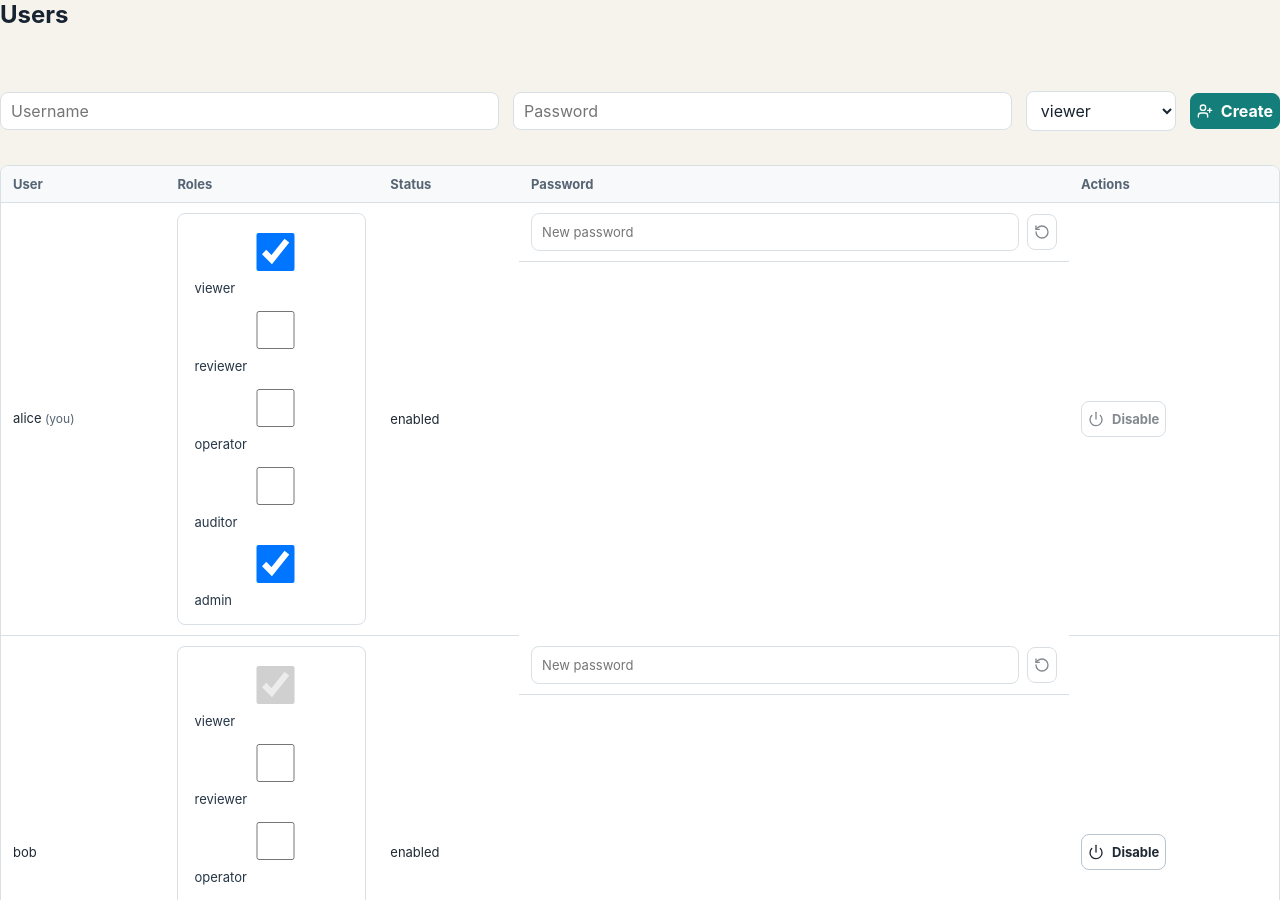
Test case: <Users> admin safety (#422, #417) › prevents self-lockout: own disable is blocked, own admin removal asks
Expected: the text "(you)" is shown, [42,411,74,426]
Expected: the button with aria-label "Disable alice" is disabled, [1081,401,1166,437]
Click the checkbox named "admin role for alice" at (276, 564), box [198,545,353,583]
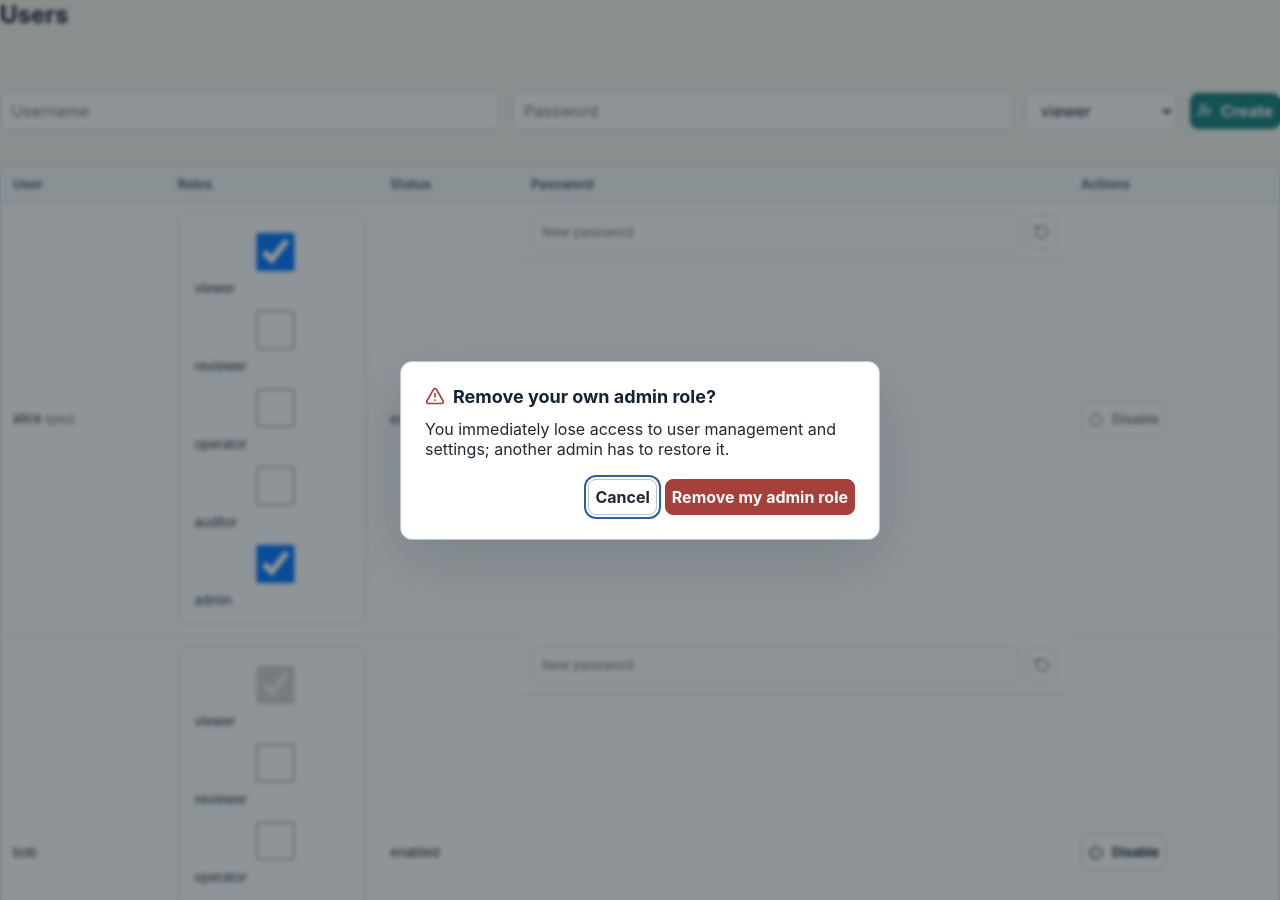
Click the button "Cancel" at (623, 496), box [588,478,657,514]
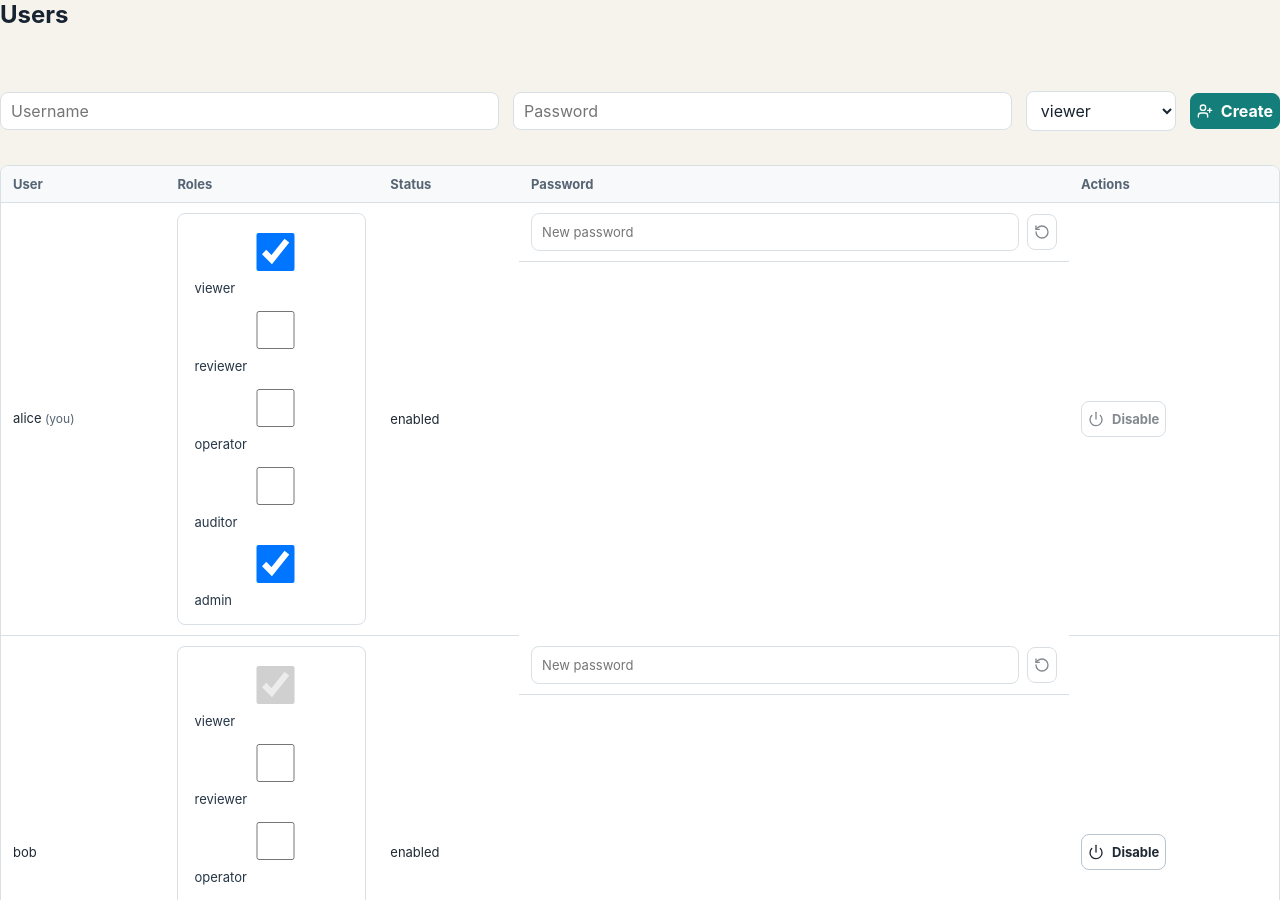
Expected: the checkbox named "admin role for alice" is checked, [198,545,353,583]
Expected: the dialog is gone
